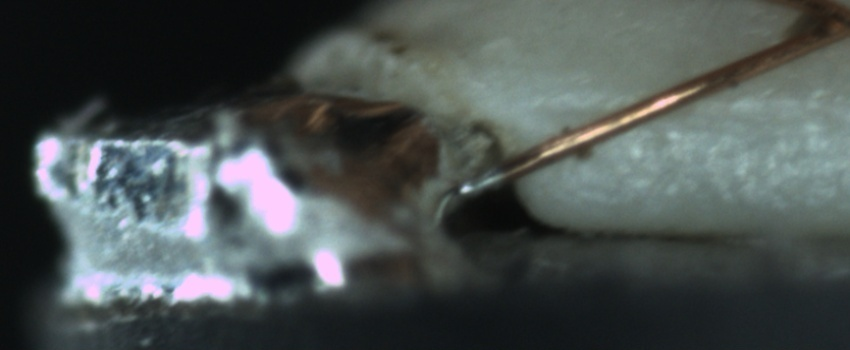DL: (553, 79, 844, 146)
TS: (454, 166, 506, 199)
